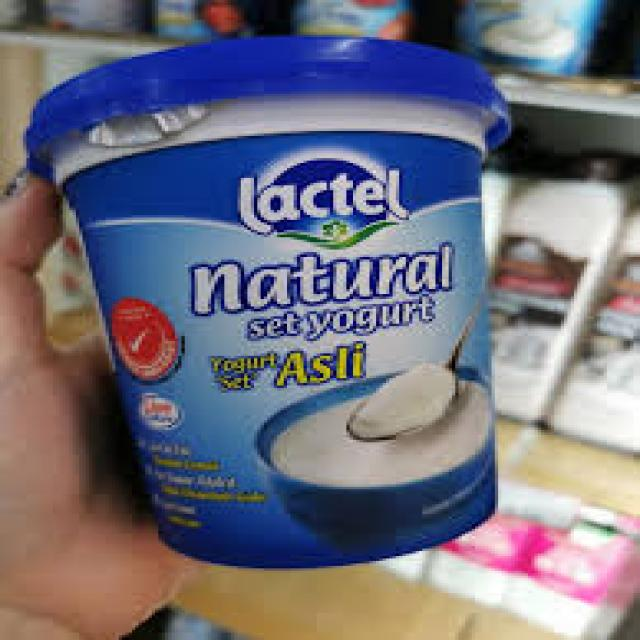plastic: (28, 31, 517, 571)
